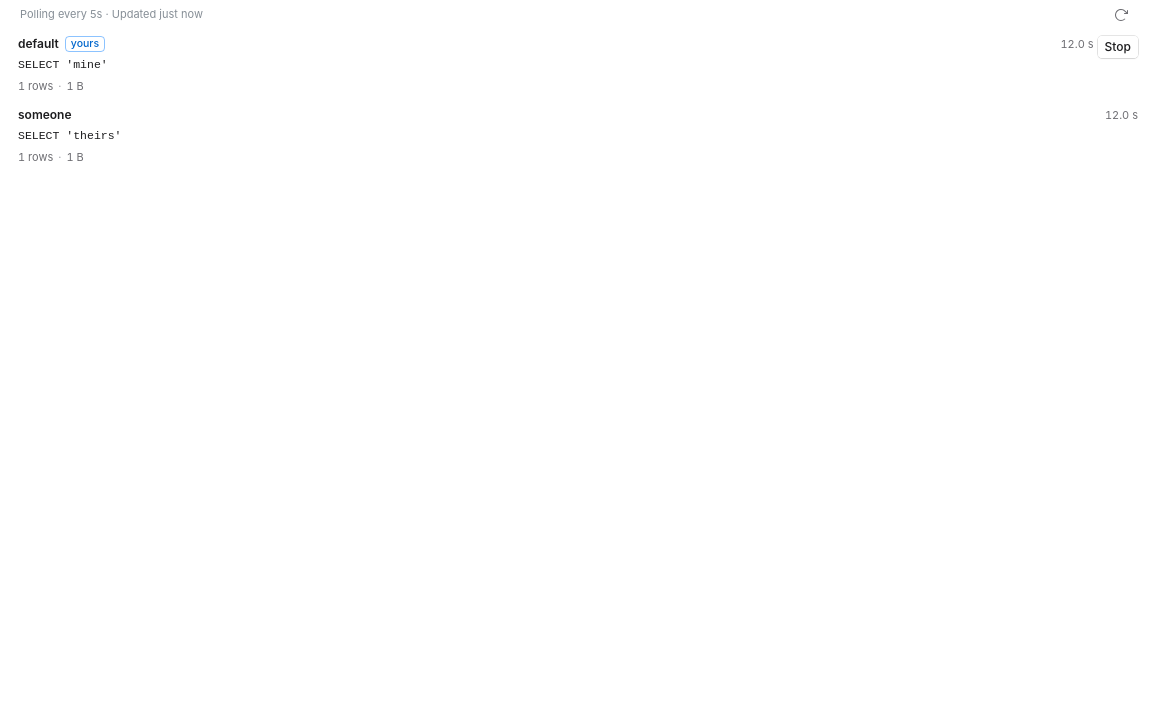
Scenario: RunningQueries Stop › confirms, stops, and says so
The width and height of the screenshot is (1152, 720).
Later steps or results of the test are not shown.
Check: the text "SELECT 'theirs'" is shown, box x1=18 y1=129 x2=122 y2=142
Click the button "Stop". click: (1118, 47)
box: x1=1098 y1=36 x2=1138 y2=58
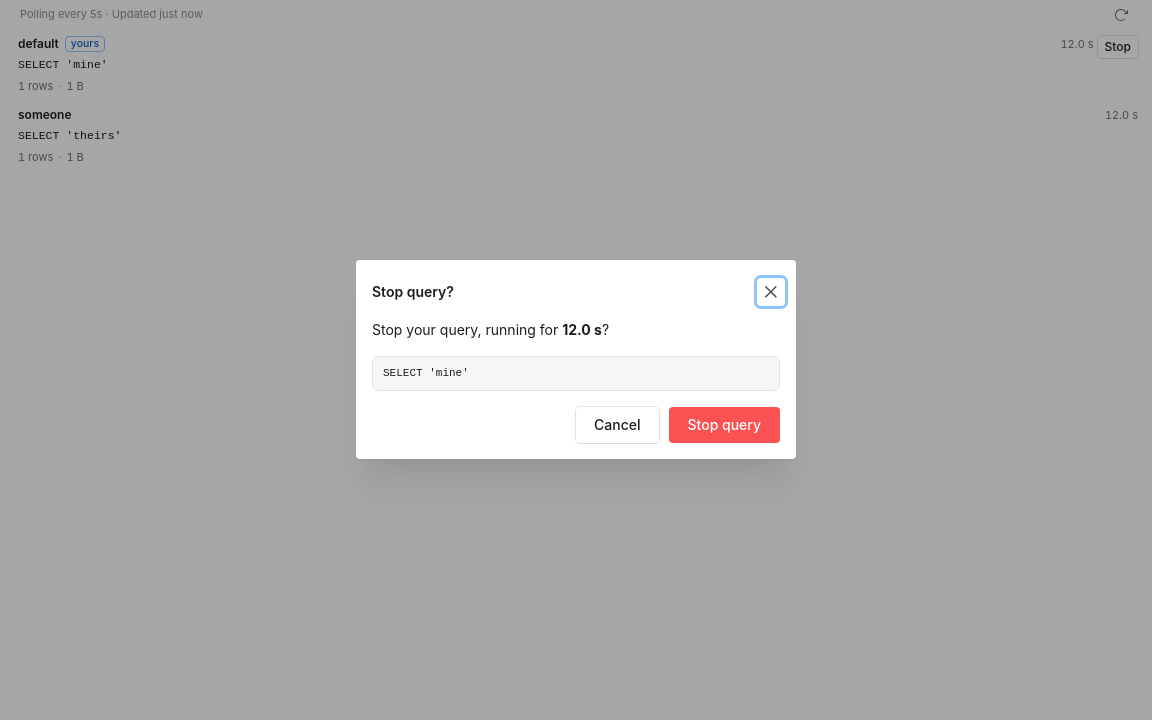
Check: the text "Stop your query, running for 12.0 s?" is shown, box x1=372 y1=321 x2=609 y2=338
